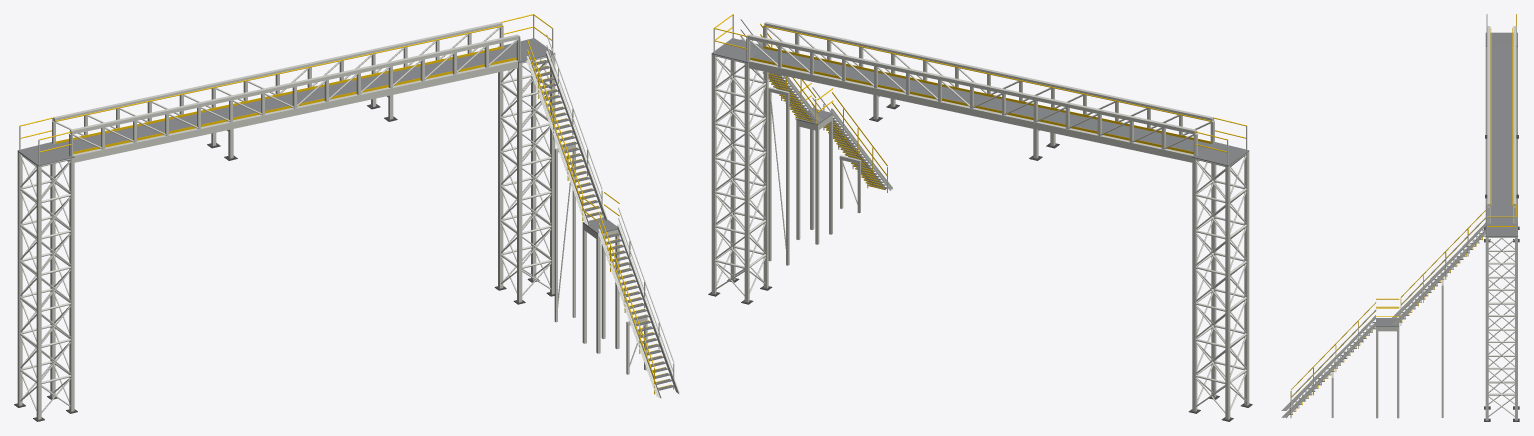
The model's file is Dumper_Access.glb.
3 views of the same model, side by side, from view 1: azimuth 30°, elevation 25°; view 2: azimuth 150°, elevation 25°; view 3: azimuth 270°, elevation 25° (orthographic). The views are drawn at different scales.
Visible parts, largest first — view 1: ramp_deck_2aeb19, ramp_bottom_chord_-1_07b459, ramp_top_chord_-1_bb5078, ramp_top_chord_1_612c46, ramp_top_chord_1, ramp_top_chord_-1_1833d7, ramp_toe_plate_-1_4663da, ramp_toe_plate_1_cda0f9, far_tower_leg_1_7685cc, far_tower_leg_0_2e714d, ramp_bottom_chord_-1_b7de63, stair_tower_leg_0_1cbff2 (+11 smaller); view 2: ramp_deck_2aeb19, ramp_bottom_chord_1_3606c2, ramp_top_chord_1_d7d69d, ramp_top_chord_-1_c60dce, ramp_top_chord_-1_1833d7, ramp_top_chord_1, ramp_toe_plate_1_8be130, ramp_toe_plate_-1_d3a5e5, far_tower_leg_2_aa2e2f, far_tower_leg_3_1a02d7, ramp_bottom_chord_1_2c873a, stair_tower_leg_3_a11b13 (+14 smaller); view 3: ramp_deck_2aeb19, stair_tower_leg_1_ffe6da, ramp_top_chord_-1_1833d7, ramp_top_chord_1, stair_tower_leg_2_4174be, far_tower_leg_1_ccb8fc, stair_upper_stringer_1_2ea5c3, stair_lower_stringer_-1_2a5f9c, stair_tower_top_platform_13cdbb, stair_upper_stringer_-1_ecd046, stair_lower_stringer_1_839fbf, stair_support_up_leg_1_393d0b (+5 smaller).
Part boxes in pixels (box(x1,y1,x2,y2)): ramp_deck_2aeb19: box(57, 48, 514, 152); ramp_bottom_chord_-1_07b459: box(74, 61, 517, 162); ramp_top_chord_-1_bb5078: box(72, 36, 519, 134); ramp_top_chord_1_612c46: box(55, 23, 502, 121); ramp_top_chord_1: box(53, 22, 501, 118); ramp_top_chord_-1_1833d7: box(70, 34, 519, 130); ramp_toe_plate_-1_4663da: box(73, 57, 516, 154); ramp_toe_plate_1_cda0f9: box(55, 46, 502, 143); far_tower_leg_1_7685cc: box(71, 157, 74, 411); far_tower_leg_0_2e714d: box(38, 166, 41, 419); ramp_bottom_chord_-1_b7de63: box(73, 60, 518, 155); stair_tower_leg_0_1cbff2: box(519, 62, 522, 302); ramp_deck_2aeb19: box(752, 48, 1209, 152); ramp_bottom_chord_1_3606c2: box(748, 61, 1192, 162); ramp_top_chord_1_d7d69d: box(747, 35, 1194, 134); ramp_top_chord_-1_c60dce: box(764, 23, 1211, 121); ramp_top_chord_-1_1833d7: box(764, 22, 1213, 118); ramp_top_chord_1: box(747, 34, 1196, 130); ramp_toe_plate_1_8be130: box(750, 57, 1193, 154); ramp_toe_plate_-1_d3a5e5: box(764, 46, 1211, 143); far_tower_leg_2_aa2e2f: box(1192, 157, 1195, 411); far_tower_leg_3_1a02d7: box(1225, 166, 1228, 419); ramp_bottom_chord_1_2c873a: box(748, 60, 1193, 155); stair_tower_leg_3_a11b13: box(744, 62, 747, 302); ramp_deck_2aeb19: box(1490, 46, 1513, 223); stair_tower_leg_1_ffe6da: box(1485, 237, 1488, 420); ramp_top_chord_-1_1833d7: box(1487, 26, 1490, 203); ramp_top_chord_1: box(1513, 26, 1516, 203); stair_tower_leg_2_4174be: box(1515, 237, 1517, 420); far_tower_leg_1_ccb8fc: box(1485, 46, 1487, 222); stair_upper_stringer_1_2ea5c3: box(1391, 231, 1485, 325); stair_lower_stringer_-1_2a5f9c: box(1281, 316, 1375, 410); stair_tower_top_platform_13cdbb: box(1485, 223, 1517, 236); stair_upper_stringer_-1_ecd046: box(1391, 224, 1485, 318); stair_lower_stringer_1_839fbf: box(1281, 323, 1375, 417); stair_support_up_leg_1_393d0b: box(1441, 288, 1443, 417).
Bounding box in the file's own units: 23.75 × 12.2 × 12.29.
